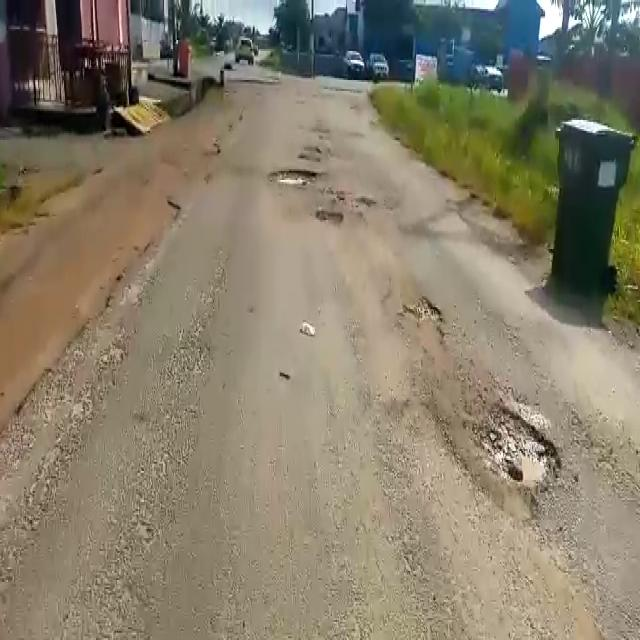Pothole: (470, 395, 567, 491), (393, 296, 448, 348), (269, 168, 316, 188), (314, 206, 351, 225)
